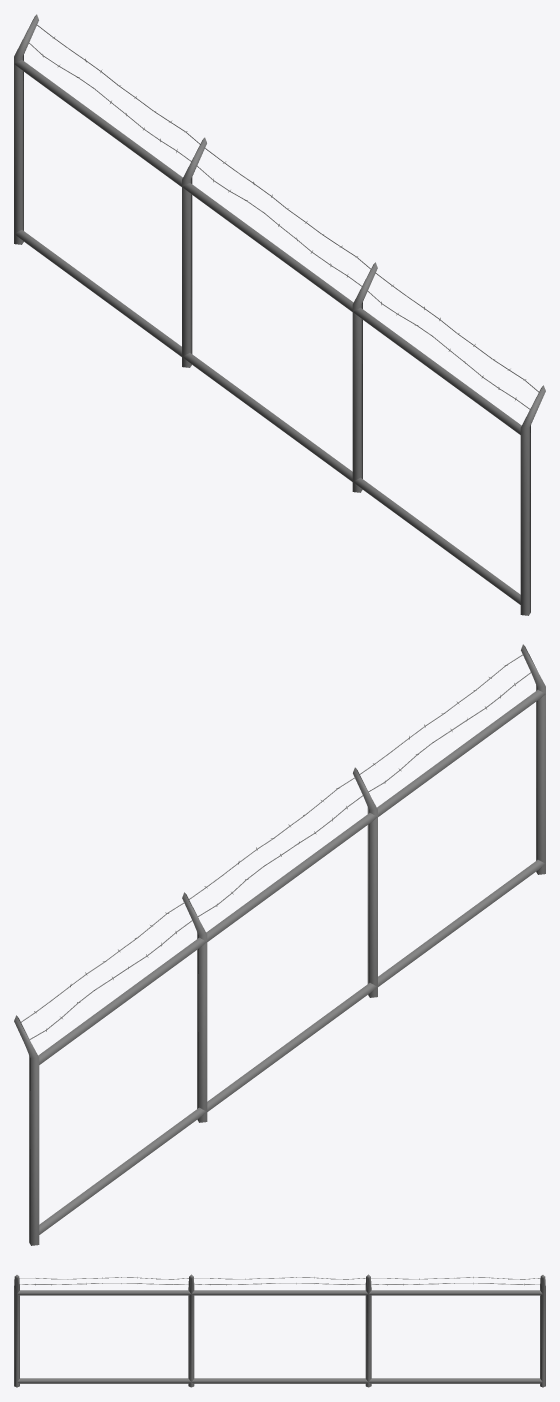
The model's file is SW_ENV_WalledStraight_WireFence_10m.fbx.
3 views of the same model, one above another, from view 1: azimuth 30°, elevation 25°; view 2: azimuth 150°, elevation 25°; view 3: azimuth 270°, elevation 25° (orthographic). The views are drawn at different scales.
Parts seen in each view (by area): view 1: SW_ENV_WalledStraight_WireFence_10m; view 2: SW_ENV_WalledStraight_WireFence_10m; view 3: SW_ENV_WalledStraight_WireFence_10m.
Boxes of the visible parts, left/top/right/bottom form: SW_ENV_WalledStraight_WireFence_10m: left=14, top=14, right=545, bottom=615; SW_ENV_WalledStraight_WireFence_10m: left=14, top=644, right=545, bottom=1245; SW_ENV_WalledStraight_WireFence_10m: left=14, top=1274, right=545, bottom=1387.
Bounding box in the file's own units: 0.2715 × 2.39 × 9.91.
